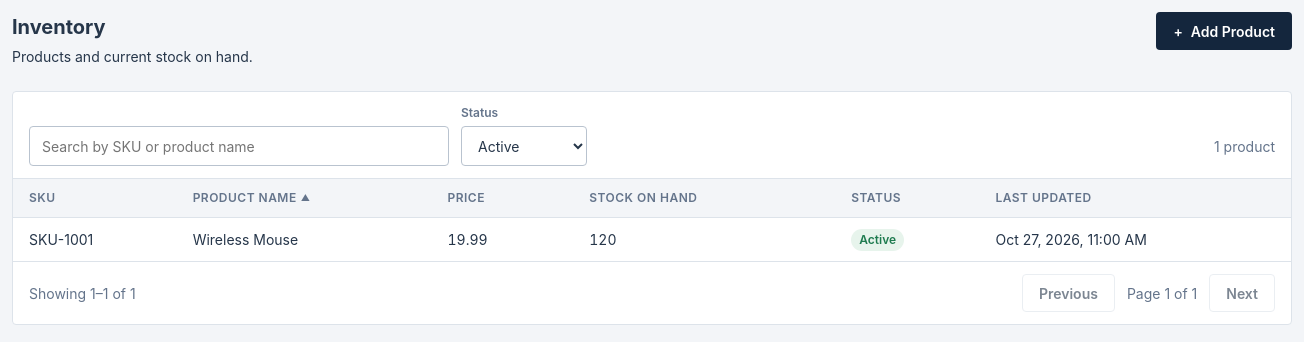
it: search › shows a no-results message with a Clear search button that restores the list
The width and height of the screenshot is (1304, 342).
Expected: the text "Wireless Mouse" is shown, x1=177 y1=218 x2=432 y2=261
Type "zzz" into the search field named "Search products". click: (239, 146)
box: x1=29 y1=126 x2=449 y2=166
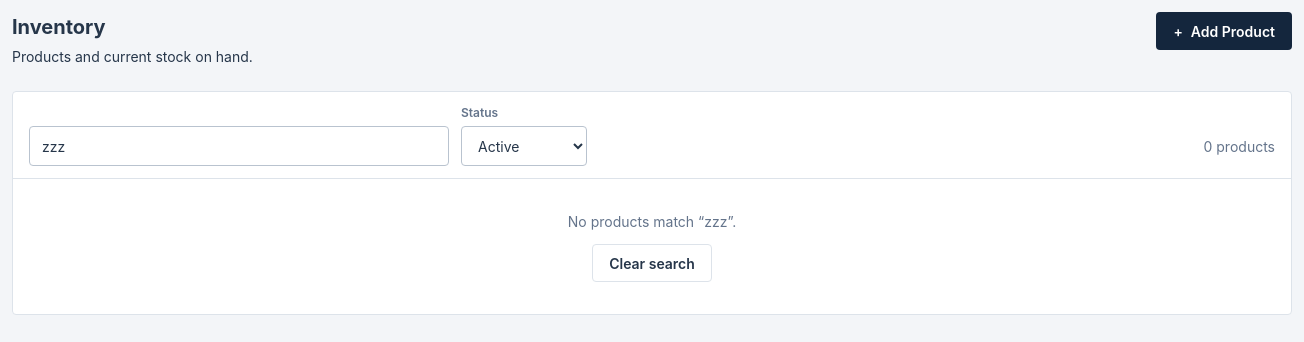
Expected: the text "No products match “zzz”." is shown, x1=568 y1=211 x2=736 y2=232
Expected: the table is gone
Click the button "Clear search". click: (652, 263)
box: x1=592 y1=244 x2=712 y2=282
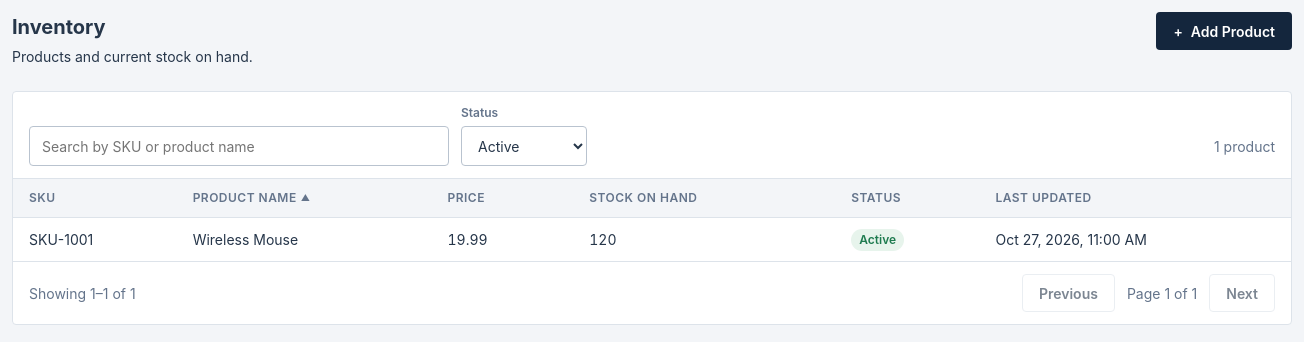
Expected: the text "Wireless Mouse" is shown, x1=177 y1=218 x2=432 y2=261
Expected: the search field named "Search products" is empty, x1=29 y1=126 x2=449 y2=166
